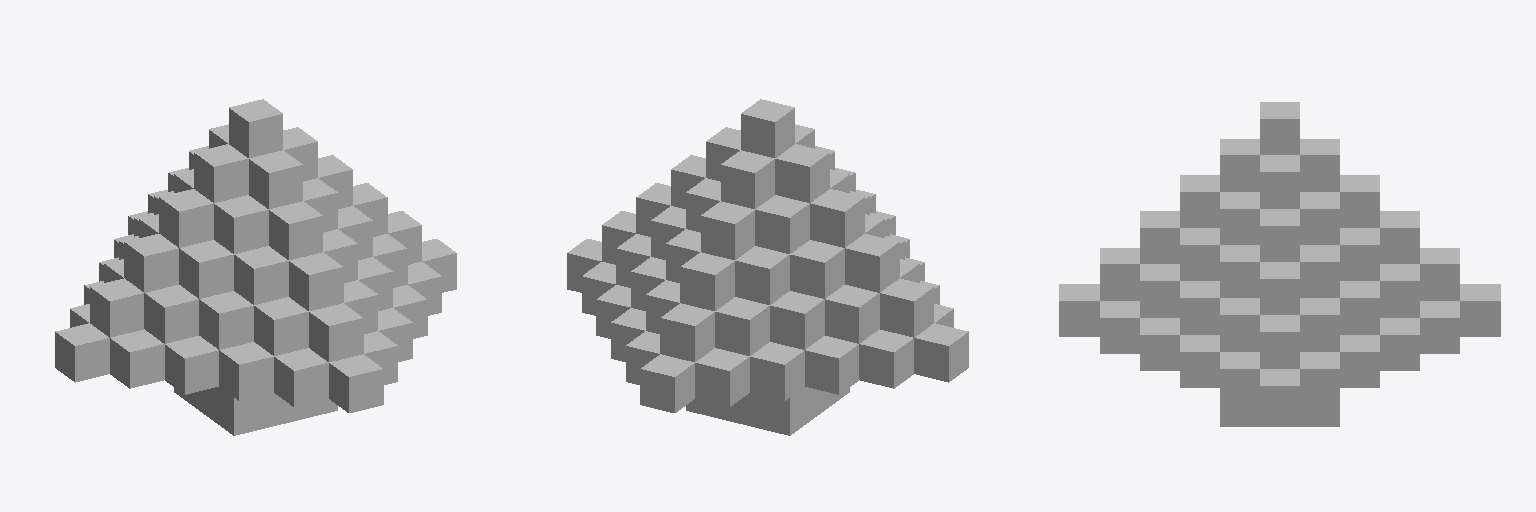
File: Big_plant_2.obj
3 views of the same model, side by side, from view 1: azimuth 30°, elevation 25°; view 2: azimuth 150°, elevation 25°; view 3: azimuth 270°, elevation 25° (orthographic).
Visible parts, largest first — view 1: Big plant 2; view 2: Big plant 2; view 3: Big plant 2.
Boxes of the visible parts, x1,y1,x2,y2 form: Big plant 2: [55, 99, 456, 435]; Big plant 2: [567, 99, 968, 435]; Big plant 2: [1059, 102, 1500, 426].
Size of the model in its own units: 11 by 8 by 11.